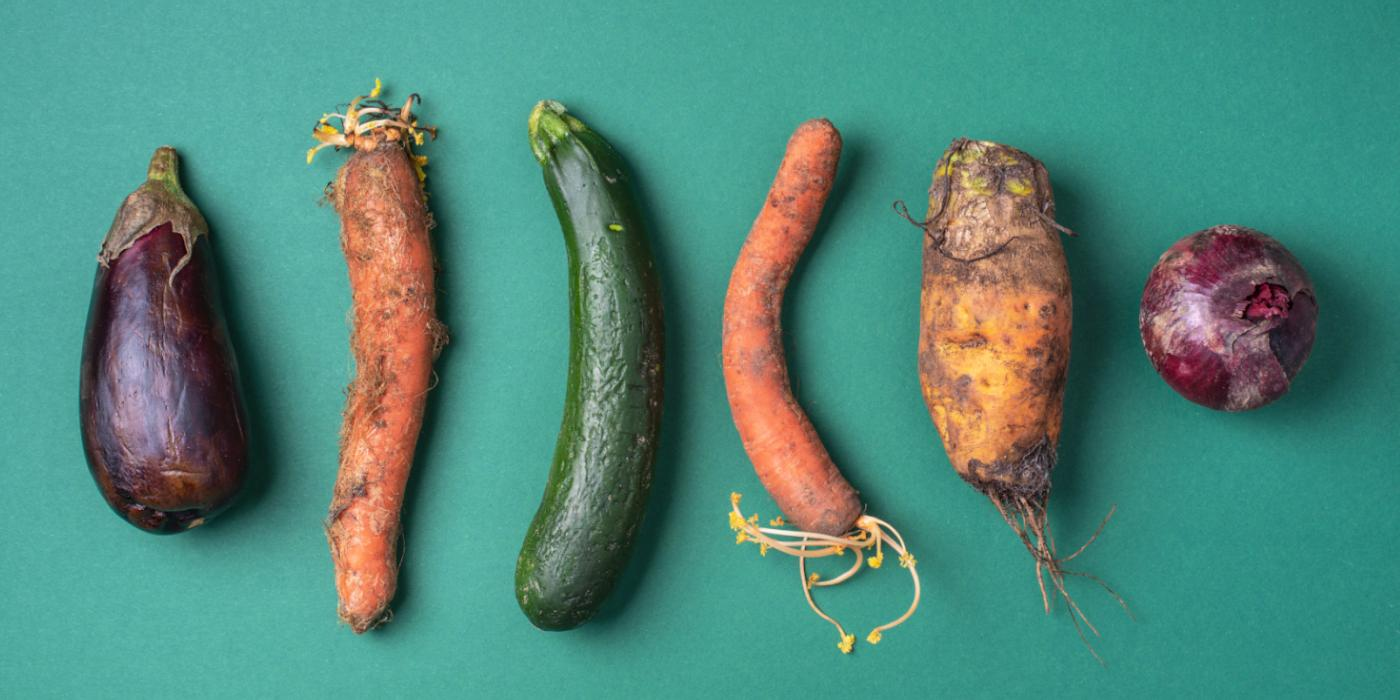organic: (918, 139, 1141, 650), (723, 117, 924, 654), (516, 100, 666, 634), (309, 76, 449, 638), (77, 145, 261, 536), (1143, 221, 1315, 413)
